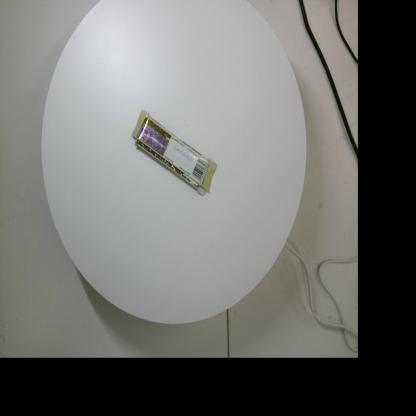Chocolate: (132, 109, 218, 196)
